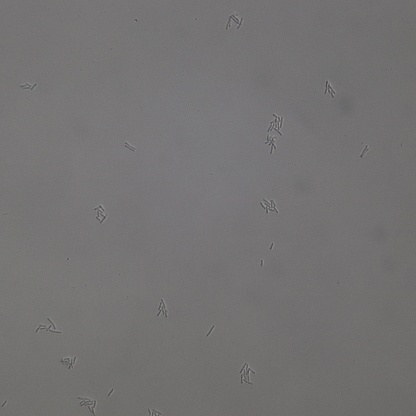R(colony): (34, 317, 61, 335), (238, 363, 256, 385), (224, 12, 243, 32), (268, 113, 286, 134), (77, 396, 98, 413), (260, 198, 279, 214), (94, 203, 108, 223), (265, 136, 277, 157), (156, 298, 168, 318), (323, 79, 335, 99), (60, 356, 77, 369), (19, 81, 38, 91), (124, 142, 136, 151)
